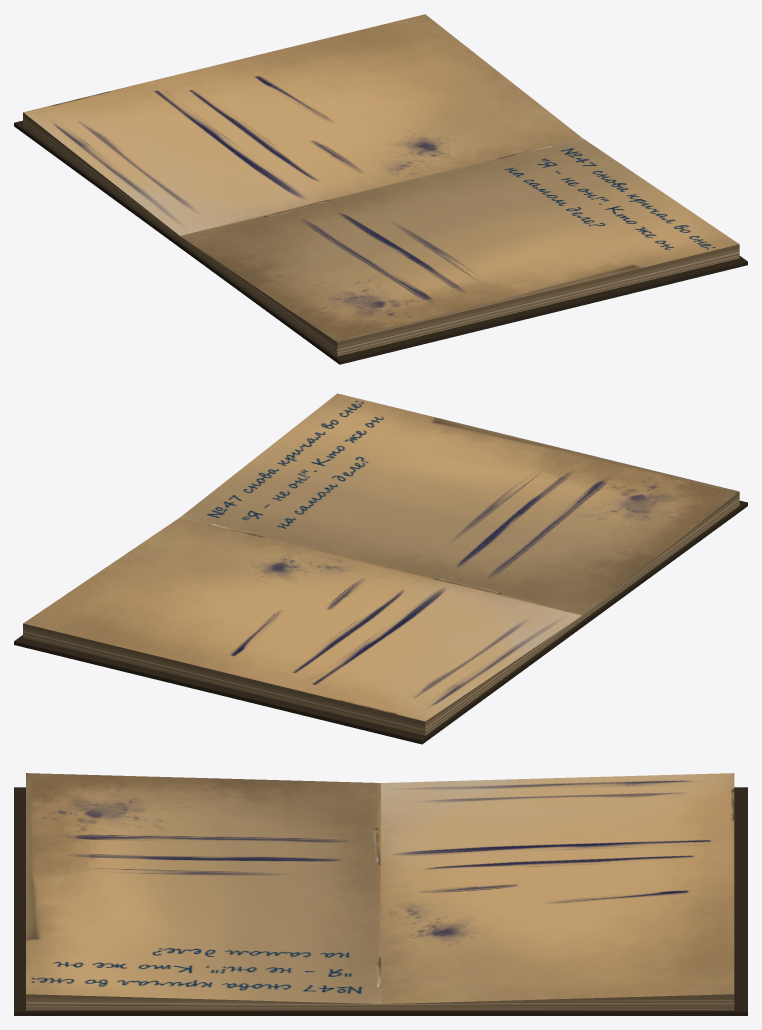
File: SM_NurseJournal_lvl1.fbx
3 views of the same model, one above another, from view 1: azimuth 30°, elevation 25°; view 2: azimuth 150°, elevation 25°; view 3: azimuth 270°, elevation 25° (orthographic). The views are drawn at different scales.
Visible parts, largest first — view 1: Cube; view 2: Cube; view 3: Cube.
Boxes of the visible parts, x1=… form: Cube: x1=14, y1=14, x2=747, y2=364; Cube: x1=14, y1=393, x2=747, y2=744; Cube: x1=14, y1=773, x2=747, y2=1015.
Bounding box in the file's own units: 111 × 4.62 × 154.
